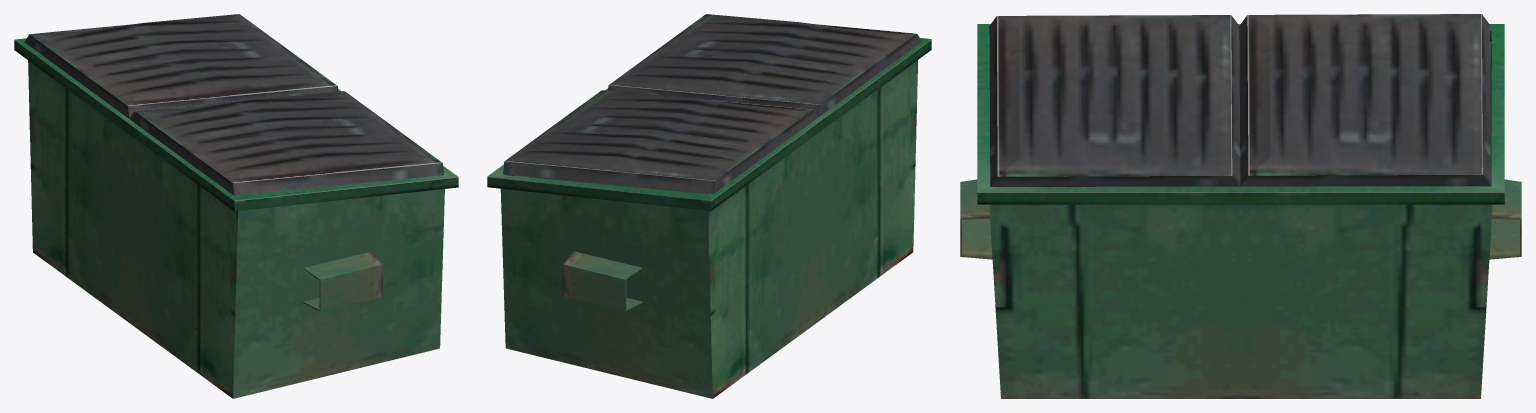
The model's file is Urban_DumpsterDiagonalClosed_Model.fbx.
The picture shows the model from 3 angles, left to right: view 1: azimuth 30°, elevation 25°; view 2: azimuth 150°, elevation 25°; view 3: azimuth 270°, elevation 25°; orthographic projection. The views are drawn at different scales.
Visible parts, largest first — view 1: Urban_DumpsterDiagonalClosed_Mesh; view 2: Urban_DumpsterDiagonalClosed_Mesh; view 3: Urban_DumpsterDiagonalClosed_Mesh.
Part boxes in pixels (bbox=[...]): Urban_DumpsterDiagonalClosed_Mesh: bbox=[14, 14, 458, 398]; Urban_DumpsterDiagonalClosed_Mesh: bbox=[487, 14, 931, 398]; Urban_DumpsterDiagonalClosed_Mesh: bbox=[960, 14, 1521, 398].
Size of the model in its own units: 2.03 by 1.89 by 3.67.
